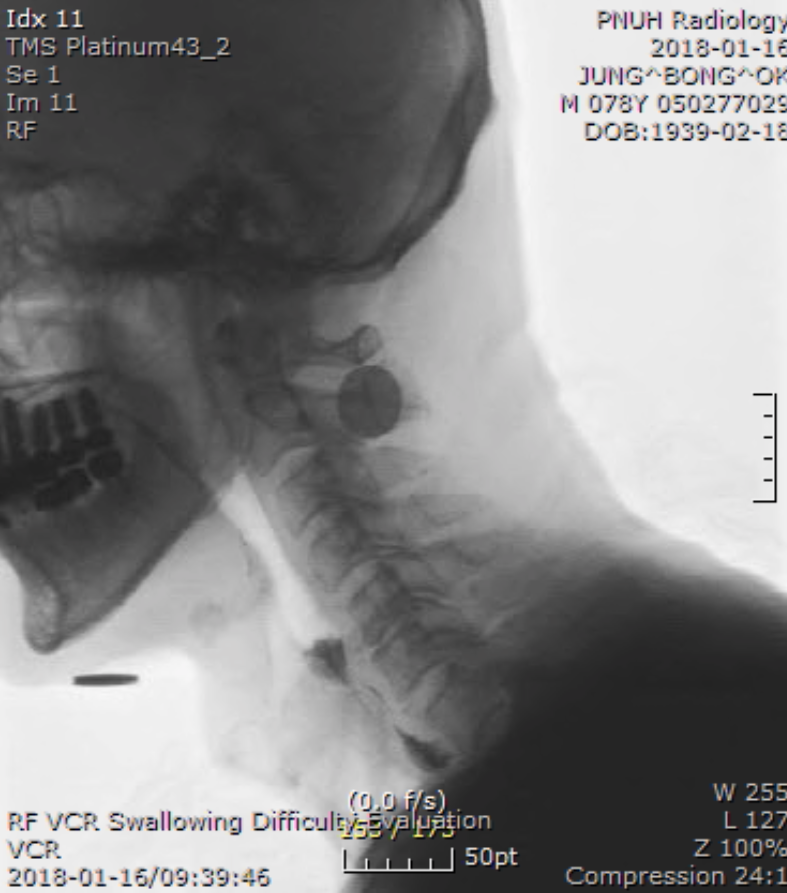dros: (282, 590, 348, 660)
food: (284, 617, 365, 691)
uros: (220, 520, 260, 581)
